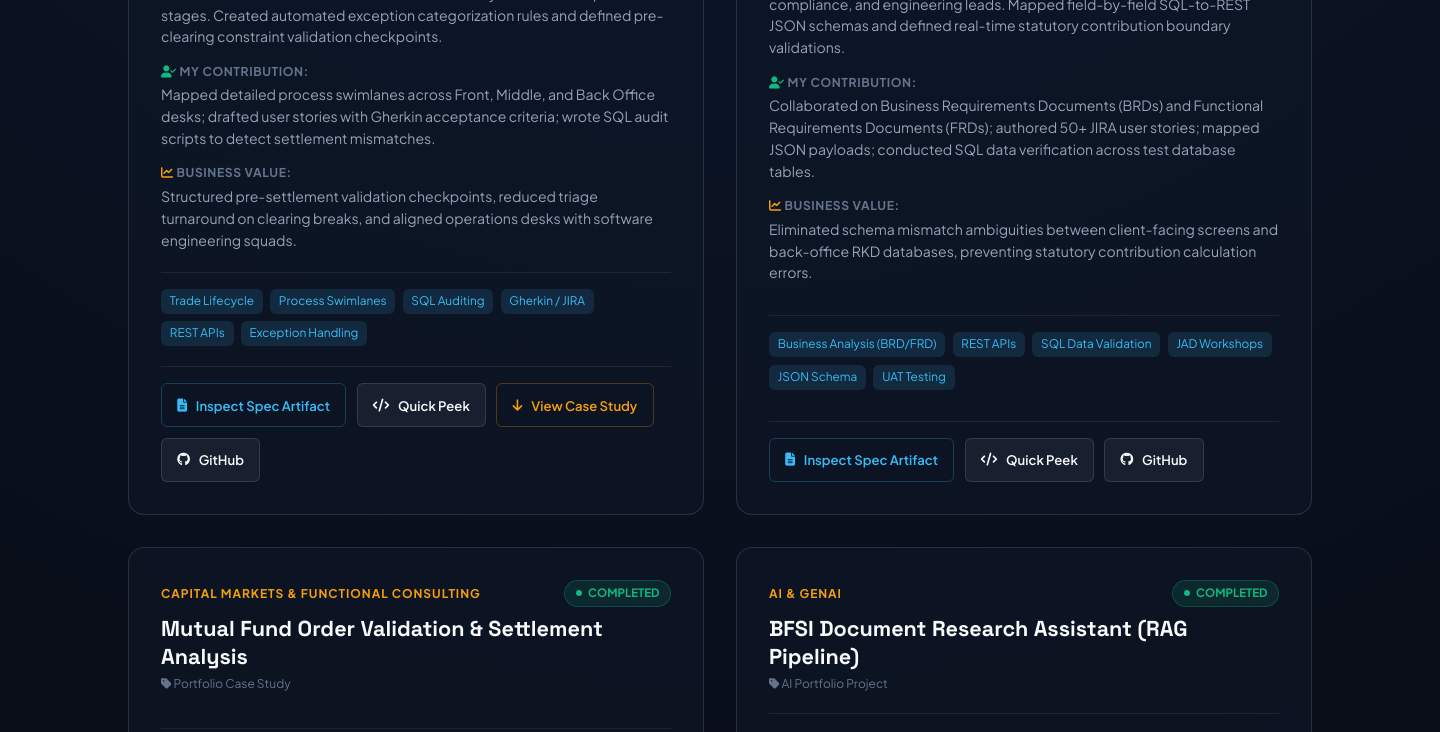
Scenario: Techno-Functional Portfolio Comprehensive Regression Suite › FeaturedWork Component › toggles inline Quick Peek code preview
(page scrolled)
Note: Open quick peek
Click the button "Quick Peek" next to "View Case Study": (421, 405) [357,383,486,427]
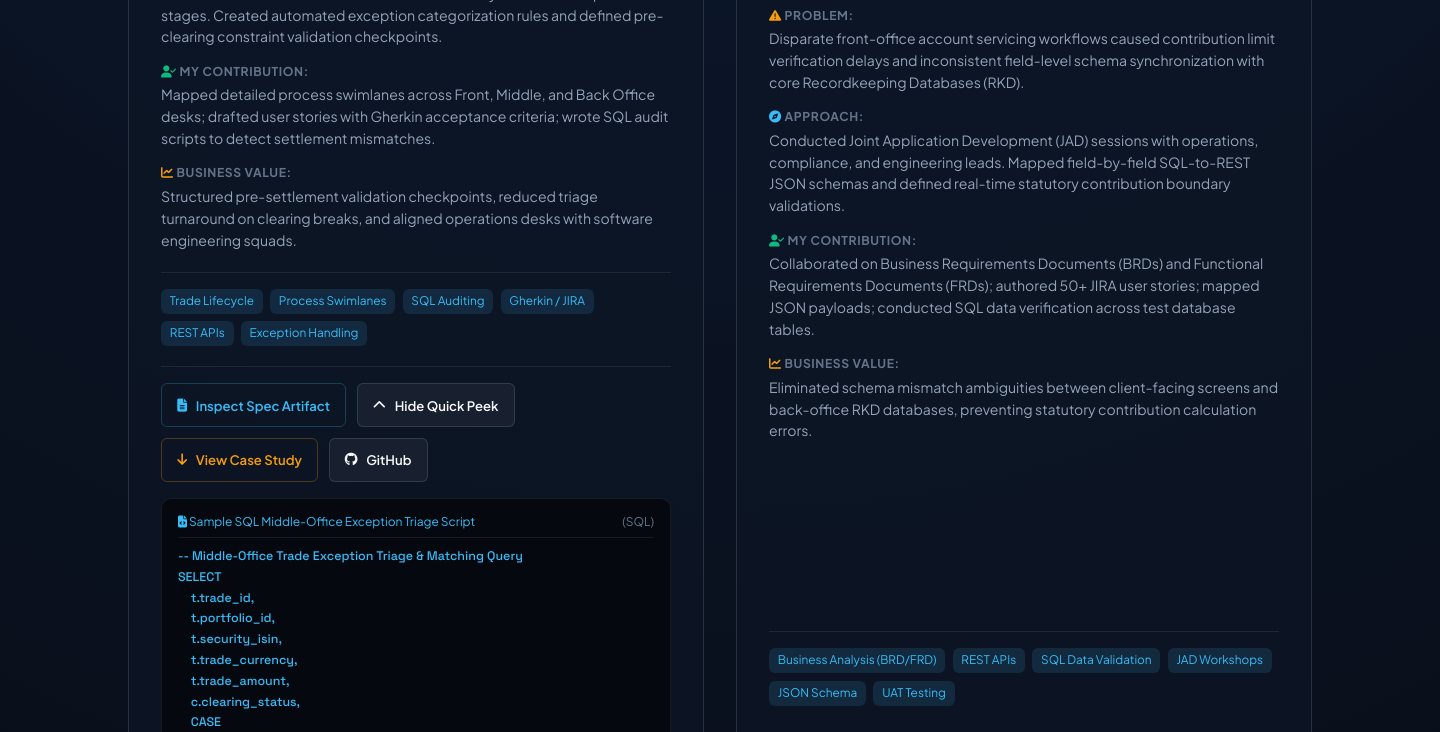
Now the button "Hide Quick Peek" is shown
Note: Close quick peek
Click the button "Hide Quick Peek": (436, 405) [357,383,515,427]
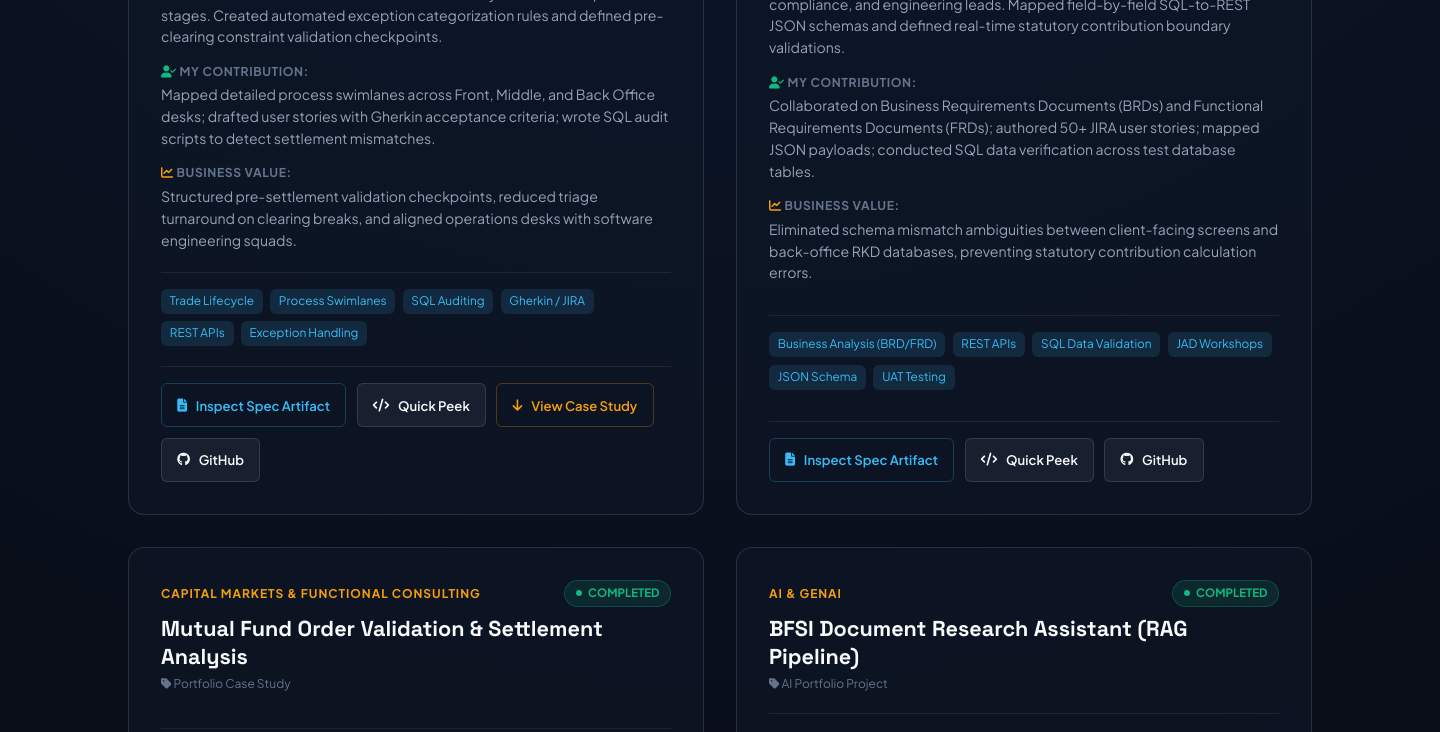
Now the button "Hide Quick Peek" is gone
